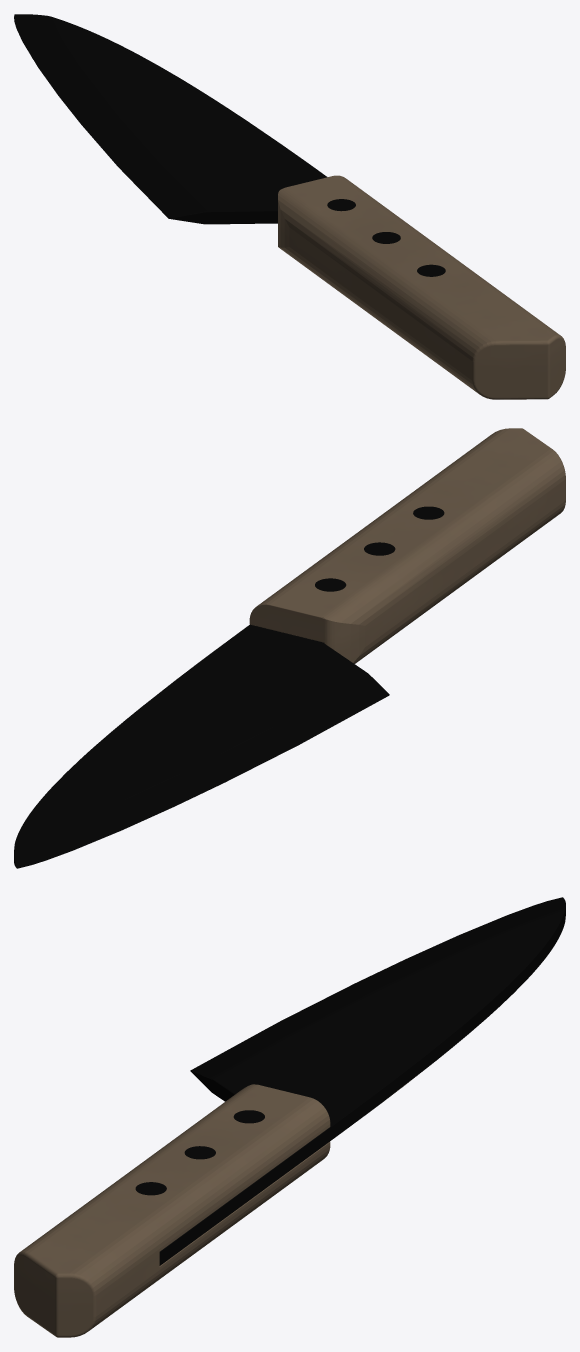
The model's file is Knife.fbx.
The picture shows the model from 3 angles, top to bottom: view 1: azimuth 30°, elevation 25°; view 2: azimuth 150°, elevation 25°; view 3: azimuth 330°, elevation 25°; orthographic projection. The views are drawn at different scales.
Visible parts, largest first — view 1: Cutting Table.002; view 2: Cutting Table.002; view 3: Cutting Table.002.
Boxes of the visible parts, box(x1,y1,x2,y2) form: Cutting Table.002: box(14, 14, 565, 399); Cutting Table.002: box(14, 428, 565, 868); Cutting Table.002: box(14, 897, 565, 1337).
Size of the model in its own units: 16.92 by 6.09 by 94.02.
Materials: 1 (1 with a texture image).
